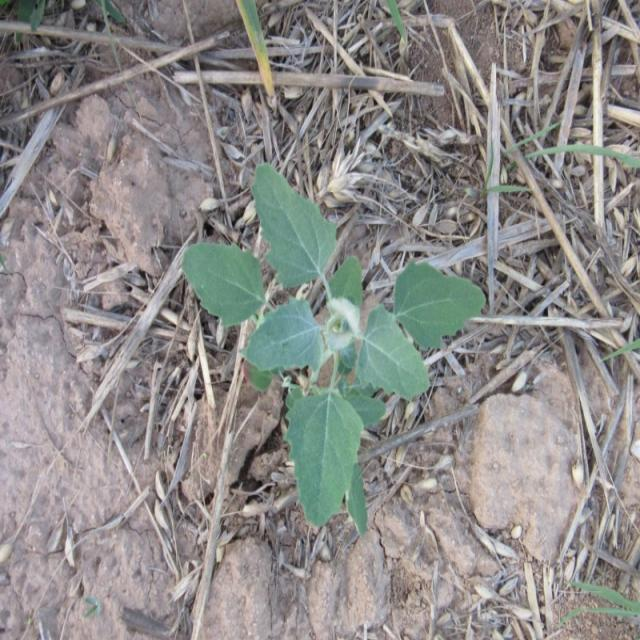ca: (185, 163, 484, 530)
